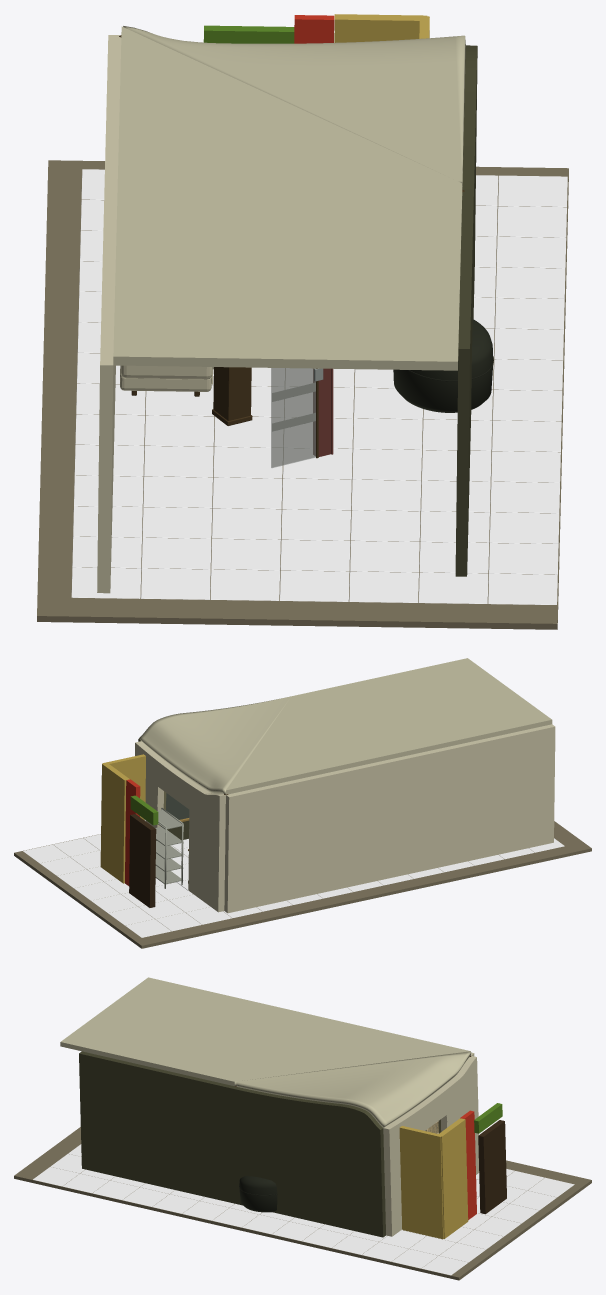
File: scene-3-ours.glb
3 renders of one model, top to bottom at view 1: azimuth 30°, elevation 25°; view 2: azimuth 150°, elevation 25°; view 3: azimuth 270°, elevation 25°, orthographic. The views are drawn at different scales.
Parts seen in each view (by area): view 1: obj_005, obj_001, obj_006, obj_002, obj_004, obj_035, obj_009, obj_014, obj_001_limestone tile_95, obj_001_limestone tile_16, obj_001_limestone tile_20, obj_001_limestone tile_31 (+59 smaller); view 2: obj_002, obj_005, obj_006, obj_001, obj_003, obj_014, obj_015, obj_003_doorway lintel_3, obj_003_right doorway pier_2, obj_014_ochre side return_2, obj_013, obj_001_limestone tile_99 (+14 smaller); view 3: obj_004, obj_005, obj_006, obj_001, obj_014_ochre side return_2, obj_014, obj_015, obj_003_right doorway pier_2, obj_003, obj_035, obj_013, obj_003_doorway lintel_3 (+25 smaller).
Boxes of the visible parts, <box> form: obj_005: <box>113,26,462,370</box>; obj_001: <box>37,160,568,629</box>; obj_006: <box>123,26,465,186</box>; obj_002: <box>97,35,121,593</box>; obj_004: <box>455,45,477,576</box>; obj_035: <box>393,319,493,412</box>; obj_009: <box>271,368,315,467</box>; obj_014: <box>334,14,427,42</box>; obj_001_limestone tile_95: <box>495,298,564,329</box>; obj_001_limestone tile_16: <box>141,568,210,599</box>; obj_001_limestone tile_20: <box>144,446,213,477</box>; obj_001_limestone tile_31: <box>211,539,280,570</box>; obj_002: <box>224,724,555,913</box>; obj_005: <box>226,658,552,794</box>; obj_006: <box>139,696,291,794</box>; obj_001: <box>14,821,591,948</box>; obj_003: <box>188,783,225,912</box>; obj_014: <box>100,763,129,883</box>; obj_015: <box>129,814,156,907</box>; obj_003_doorway lintel_3: <box>157,760,195,809</box>; obj_003_right doorway pier_2: <box>135,741,163,865</box>; obj_014_ochre side return_2: <box>102,754,145,819</box>; obj_013: <box>125,779,140,886</box>; obj_001_limestone tile_99: <box>23,844,69,863</box>; obj_004: <box>79,1051,385,1237</box>; obj_005: <box>60,977,470,1086</box>; obj_006: <box>234,1052,471,1127</box>; obj_001: <box>14,1127,591,1280</box>; obj_014_ochre side return_2: <box>399,1126,443,1239</box>; obj_014: <box>437,1118,468,1238</box>; obj_015: <box>478,1120,506,1214</box>; obj_003_right doorway pier_2: <box>383,1113,413,1236</box>; obj_003: <box>440,1055,479,1174</box>; obj_035: <box>239,1176,277,1212</box>; obj_013: <box>460,1110,476,1219</box>; obj_003_doorway lintel_3: <box>407,1088,446,1130</box>.
Bounding box in the file's own units: 11.79 × 4.24 × 13.96.
